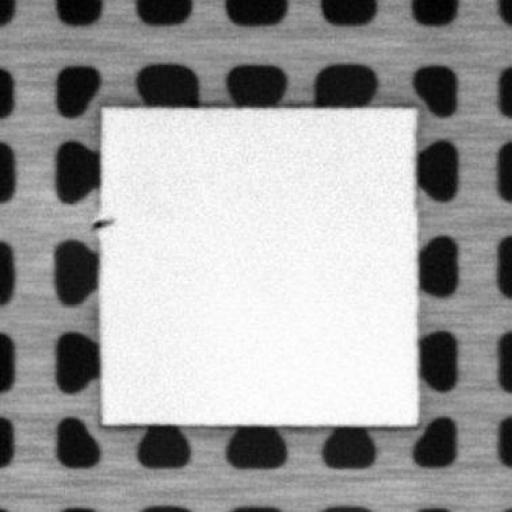DIE_INK: (91, 213, 115, 227)
